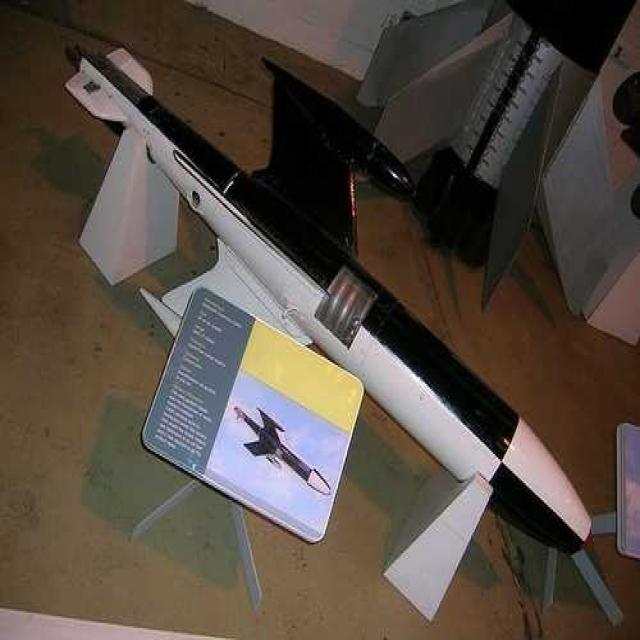missile: (66, 41, 593, 590)
